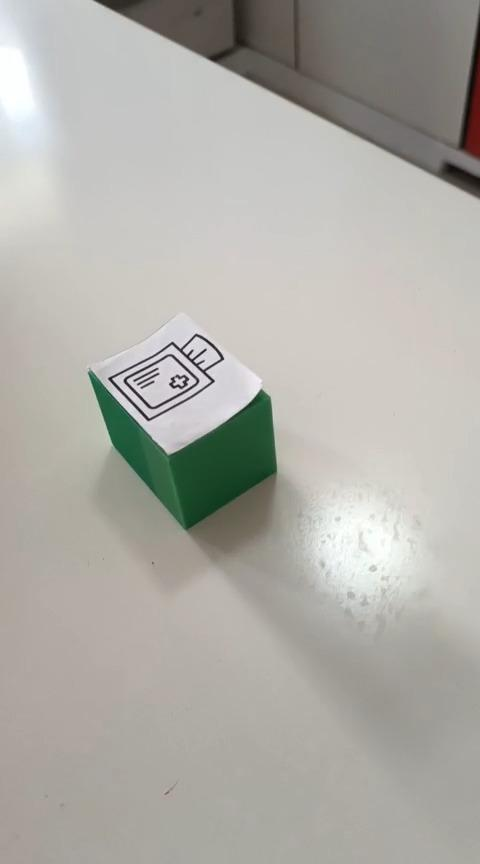Gauze: (86, 310, 278, 531)
